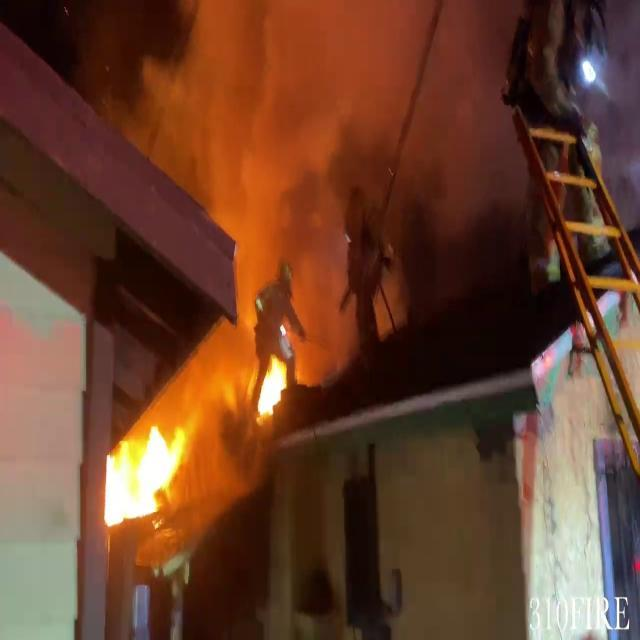Fire: (98, 408, 186, 534), (253, 344, 293, 424), (574, 43, 604, 95)
Smoke: (175, 0, 528, 354)
